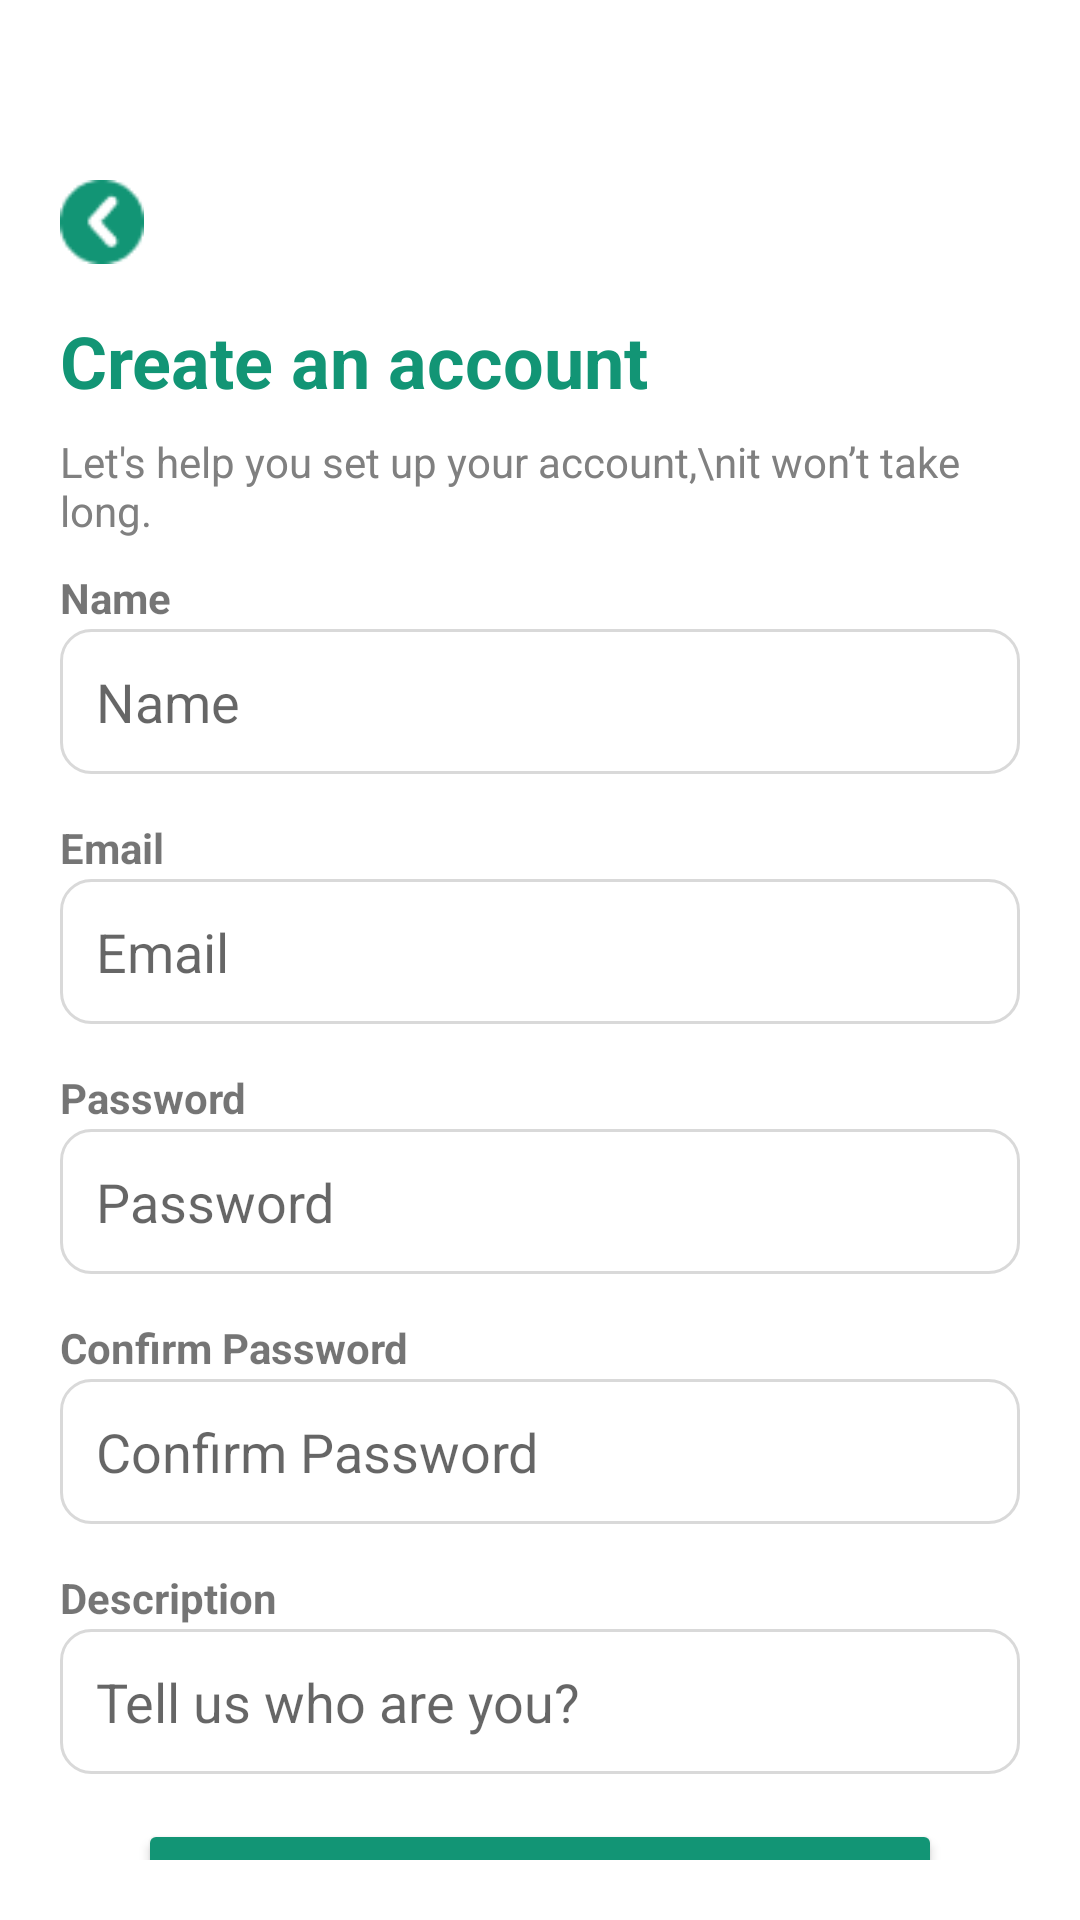

Point at icon controls on the screen. Image size 1080*1920, points as [x,y].
Back: [102,222]
